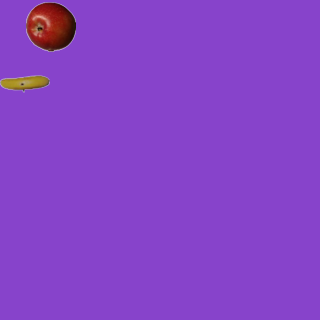Apple Braeburn: (25, 1, 75, 51)
Banana: (0, 58, 49, 108)
